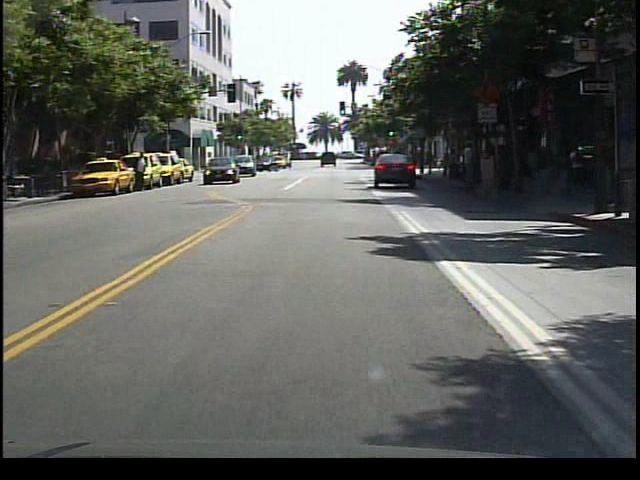person: (459, 136, 481, 196), (134, 148, 152, 195)
